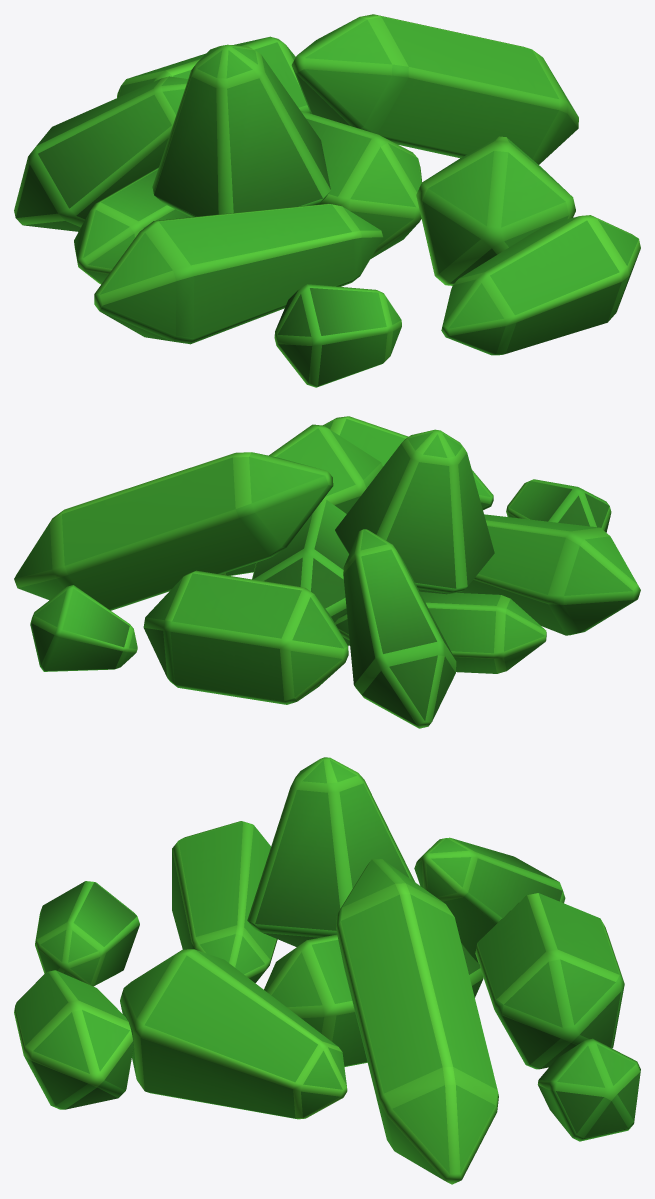
File: christal_emerald_pile.fbx
The picture shows the model from 3 angles, top to bottom: view 1: azimuth 30°, elevation 25°; view 2: azimuth 150°, elevation 25°; view 3: azimuth 270°, elevation 25°; orthographic projection. The views are drawn at different scales.
Visible parts, largest first — view 1: christal_emerald_pile; view 2: christal_emerald_pile; view 3: christal_emerald_pile.
Part boxes in pixels (<box>): christal_emerald_pile: <box>14,14,640,387</box>; christal_emerald_pile: <box>14,416,640,728</box>; christal_emerald_pile: <box>14,757,640,1184</box>.
Bounding box in the file's own units: 182 × 69.99 × 169.
1 material, 1 textured.
